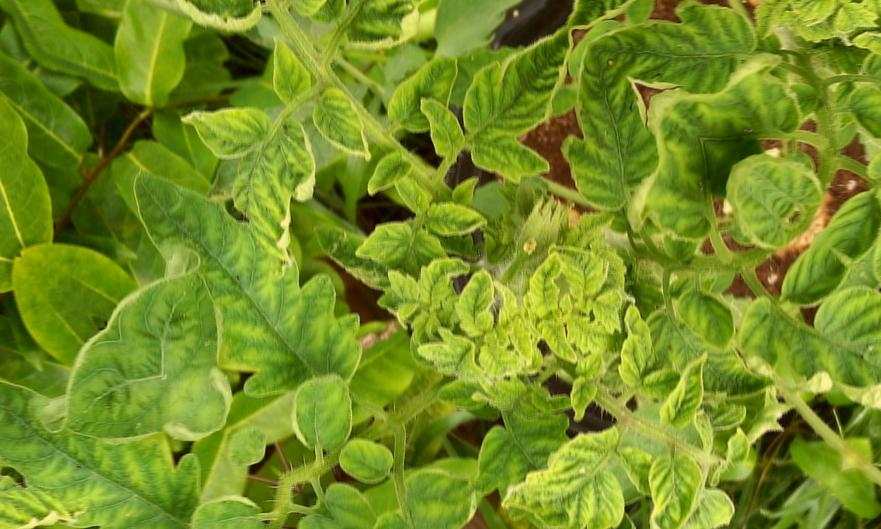Tomato leaf yellow virus: (71, 131, 399, 435), (383, 0, 640, 231), (541, 68, 782, 297), (698, 223, 881, 470), (95, 232, 307, 436), (496, 35, 701, 236), (177, 80, 364, 267), (349, 429, 643, 529), (55, 0, 277, 119), (0, 71, 132, 271), (495, 397, 669, 529), (682, 159, 812, 283), (288, 0, 482, 81), (289, 73, 394, 175), (642, 346, 732, 440), (588, 301, 675, 389), (435, 257, 521, 345), (534, 224, 622, 309), (162, 0, 273, 56), (413, 181, 493, 258), (353, 136, 423, 209), (518, 517, 737, 529), (217, 0, 420, 6)
